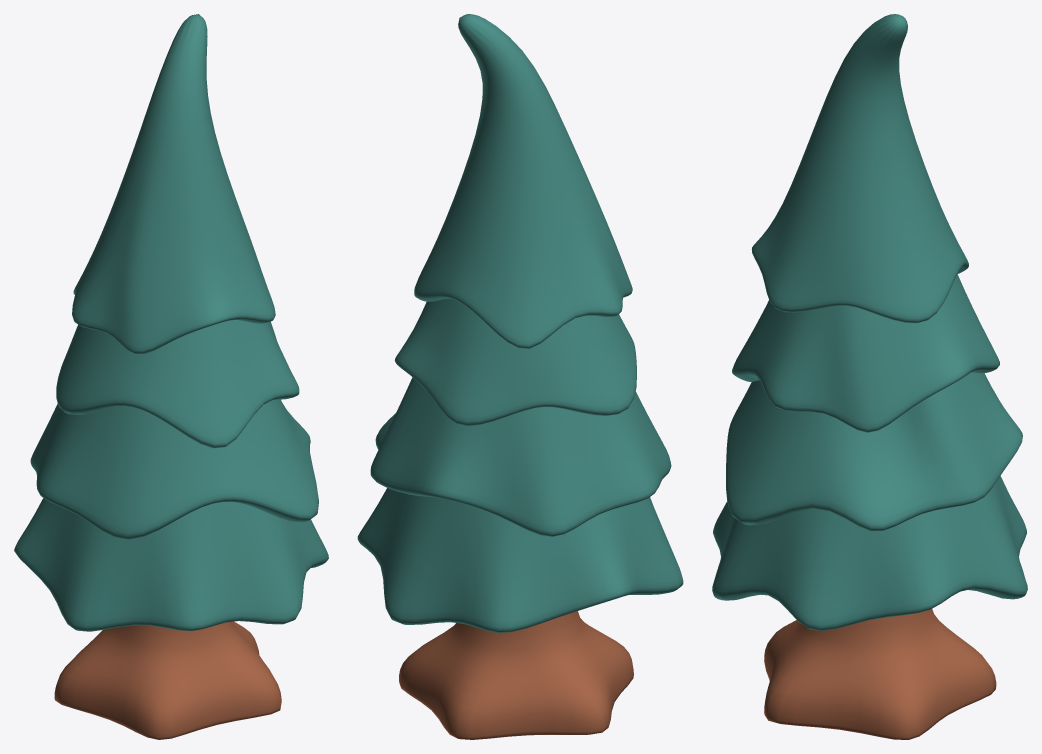
The model's file is tree7.fbx.
The picture shows the model from 3 angles, left to right: view 1: azimuth 30°, elevation 25°; view 2: azimuth 150°, elevation 25°; view 3: azimuth 270°, elevation 25°; orthographic projection. The views are drawn at different scales.
Visible parts, largest first — view 1: tree7; view 2: tree7; view 3: tree7.
Part boxes in pixels (x1,y1,x2,y2): tree7: [14, 14, 328, 739]; tree7: [357, 14, 683, 739]; tree7: [712, 14, 1027, 739].
Size of the model in its own units: 338 by 803 by 331.
